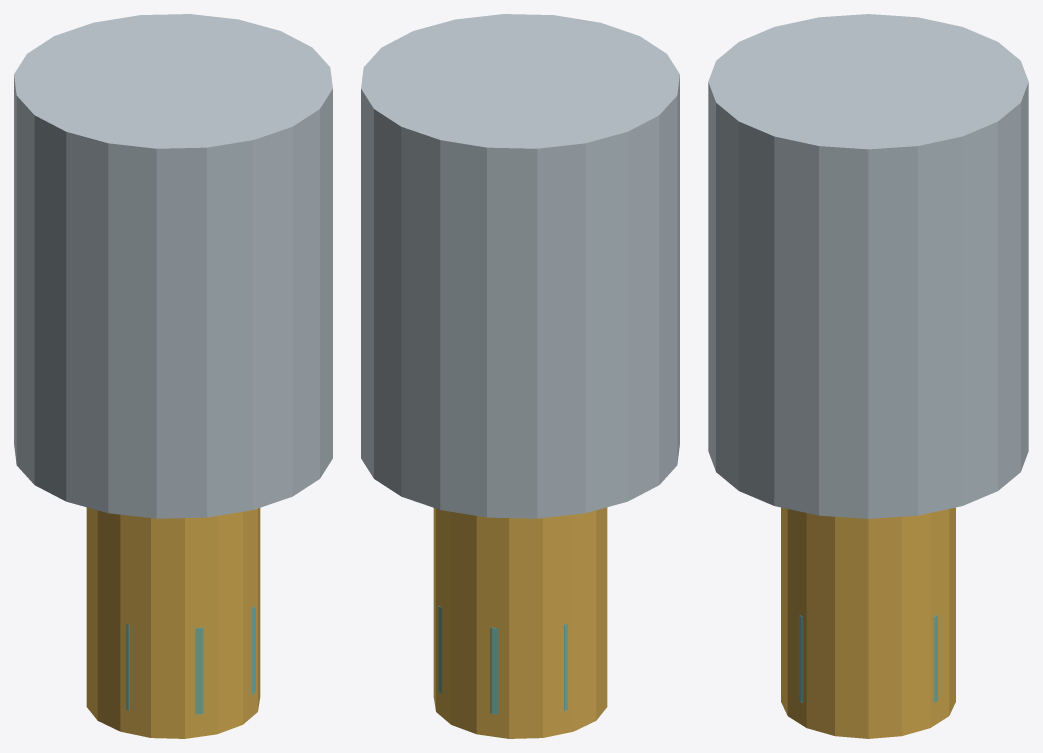
File: 19_L77_BulkSlurryDispenseNozzle.fbx
The picture shows the model from 3 angles, left to right: view 1: azimuth 30°, elevation 25°; view 2: azimuth 150°, elevation 25°; view 3: azimuth 270°, elevation 25°; orthographic projection.
Visible parts, largest first — view 1: BulkSlurryDispenseNozzle_Part_0000, BulkSlurryDispenseNozzle_Part_0001, BulkSlurryDispenseNozzle_Part_0004; view 2: BulkSlurryDispenseNozzle_Part_0000, BulkSlurryDispenseNozzle_Part_0001, BulkSlurryDispenseNozzle_Part_0007; view 3: BulkSlurryDispenseNozzle_Part_0000, BulkSlurryDispenseNozzle_Part_0001.
Part boxes in pixels (x1=…): BulkSlurryDispenseNozzle_Part_0000: x1=14, y1=14, x2=332, y2=518; BulkSlurryDispenseNozzle_Part_0001: x1=86, y1=507, x2=260, y2=738; BulkSlurryDispenseNozzle_Part_0004: x1=195, y1=627, x2=203, y2=714; BulkSlurryDispenseNozzle_Part_0000: x1=361, y1=14, x2=679, y2=518; BulkSlurryDispenseNozzle_Part_0001: x1=433, y1=507, x2=607, y2=738; BulkSlurryDispenseNozzle_Part_0007: x1=490, y1=627, x2=498, y2=714; BulkSlurryDispenseNozzle_Part_0000: x1=708, y1=14, x2=1028, y2=518; BulkSlurryDispenseNozzle_Part_0001: x1=781, y1=507, x2=955, y2=738.
Size of the model in its own units: 22 by 47 by 22.
